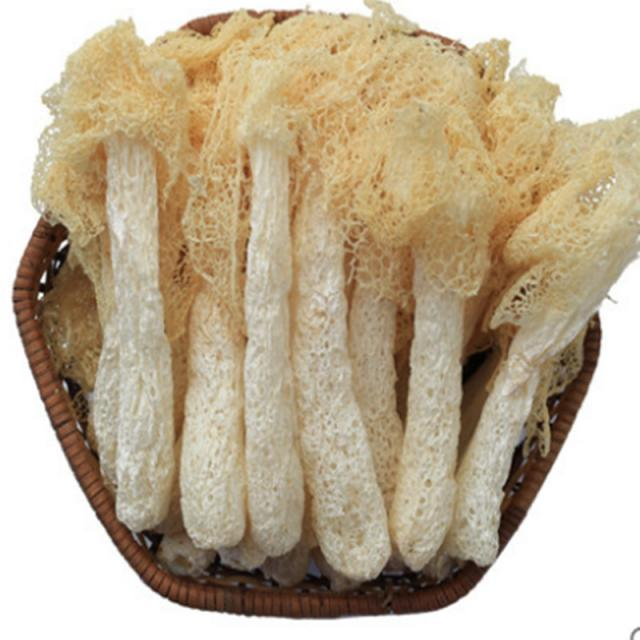Dictyophora indusiate: (448, 108, 640, 564), (38, 18, 171, 523), (292, 12, 392, 576), (399, 61, 493, 575), (232, 22, 307, 557), (184, 14, 251, 548)
